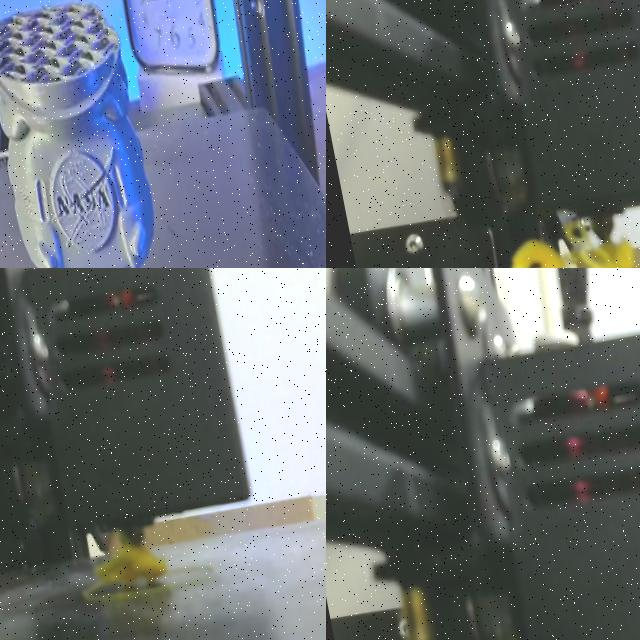spaghetti: (93, 532, 178, 617), (498, 219, 640, 268)
